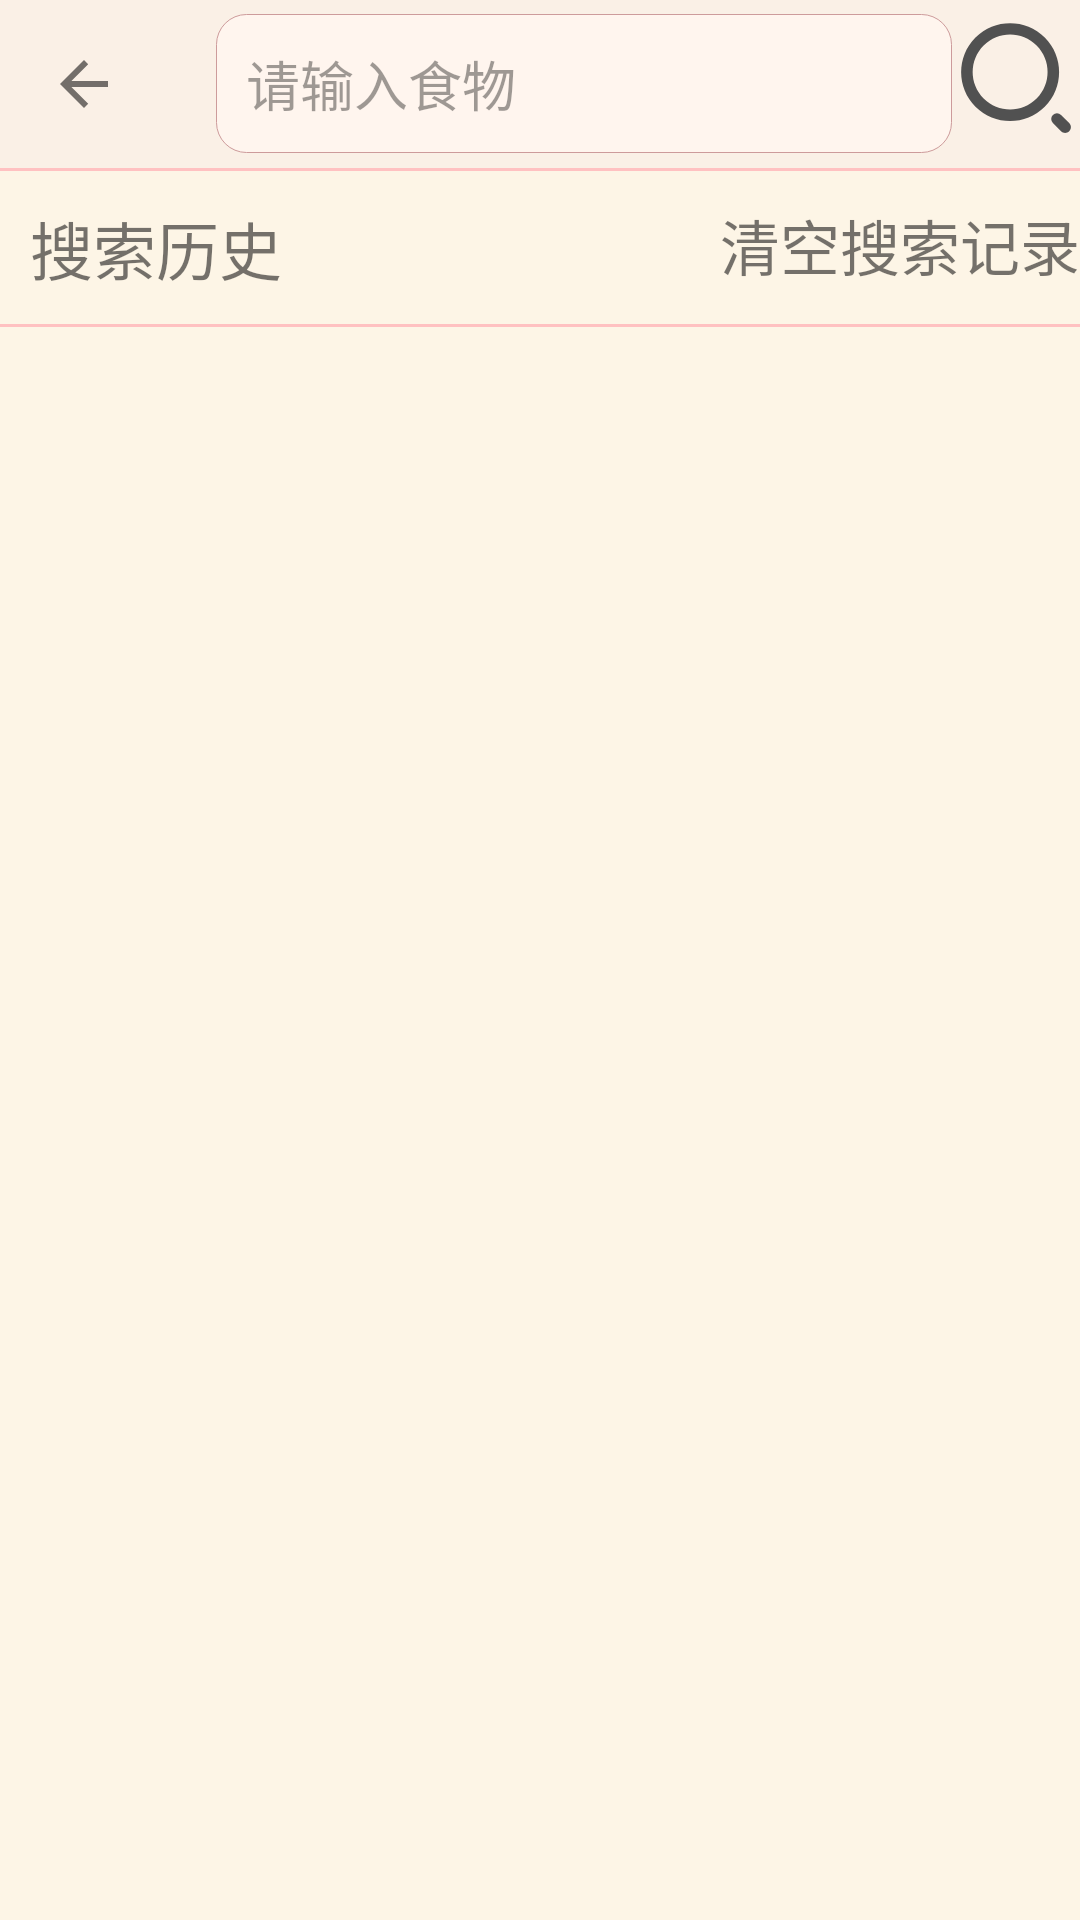

Icons on this 1080 × 1920 Android screen, each with the point to tap as point (x, y):
search: point (1016, 78)
